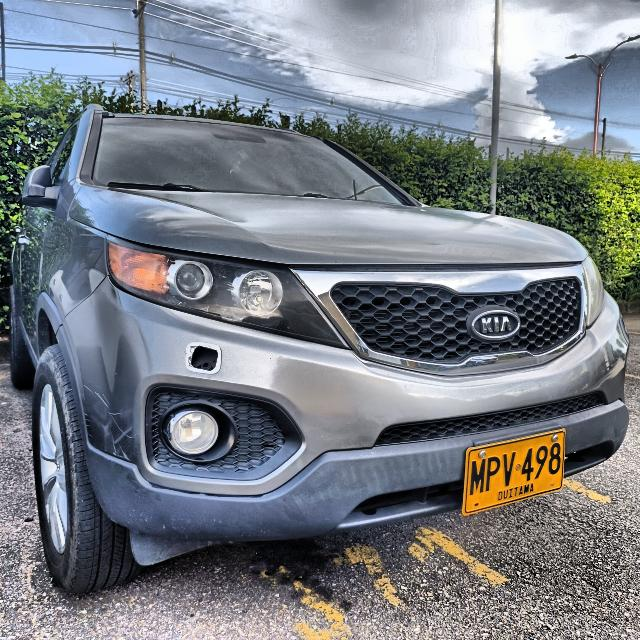plate: (464, 429, 565, 514)
